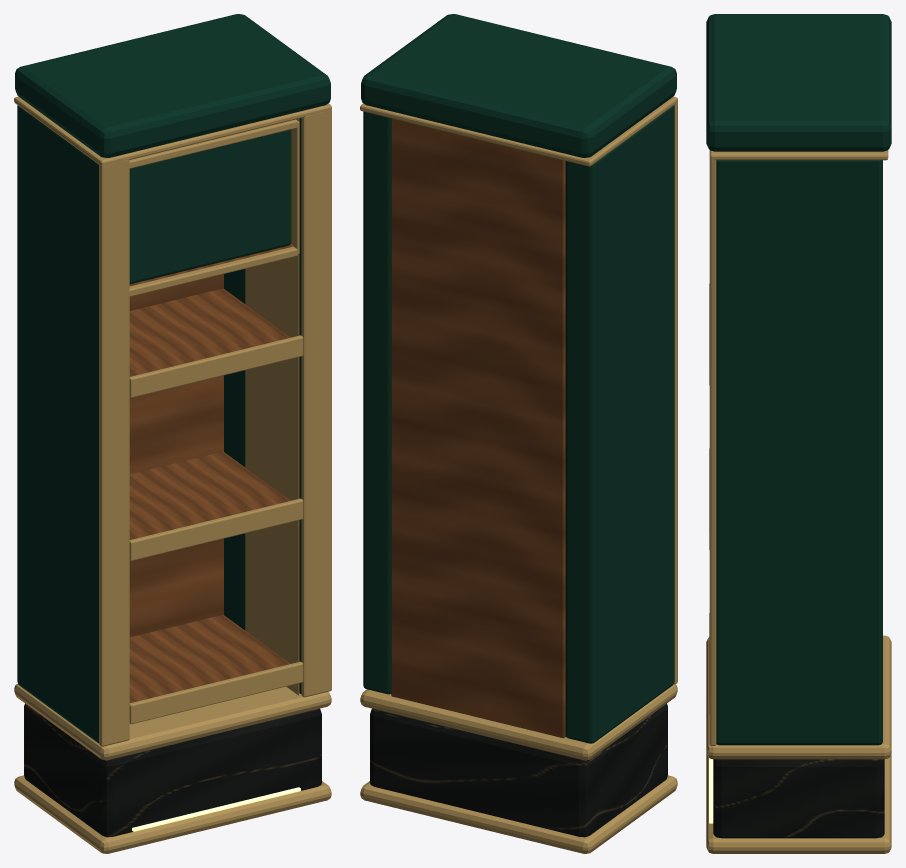
3 views of the same model, side by side, from view 1: azimuth 30°, elevation 25°; view 2: azimuth 150°, elevation 25°; view 3: azimuth 270°, elevation 25° (orthographic).
Parts seen in each view (by area): view 1: cabinet_left_pillar, cabinet_crown, cabinet_stone_base, brand_header_panel, trim_left_front, trim_right_front, trim_right_inner, cabinet_back, shelf_2, shelf_3, shelf_1, trim_base_top (+10 smaller); view 2: cabinet_back, cabinet_left_pillar, cabinet_crown, cabinet_stone_base, cabinet_right_pillar, trim_base_plinth, trim_base_top, trim_crown_lip, trim_left_front; view 3: cabinet_right_pillar, cabinet_crown, cabinet_stone_base, trim_right_front, trim_base_top, trim_base_plinth, trim_crown_lip.
Part boxes in pixels (x1=…): cabinet_left_pillar: x1=17, y1=105, x2=98, y2=743; cabinet_crown: x1=15, y1=14, x2=330, y2=157; cabinet_stone_base: x1=24, y1=703, x2=321, y2=837; brand_header_panel: x1=129, y1=129, x2=291, y2=284; trim_left_front: x1=99, y1=159, x2=129, y2=746; trim_right_front: x1=301, y1=110, x2=331, y2=697; trim_right_inner: x1=245, y1=119, x2=299, y2=695; cabinet_back: x1=129, y1=274, x2=223, y2=636; shelf_2: x1=129, y1=451, x2=290, y2=539; shelf_3: x1=129, y1=288, x2=290, y2=376; shelf_1: x1=129, y1=614, x2=290, y2=702; trim_base_top: x1=14, y1=683, x2=331, y2=760; cabinet_back: x1=391, y1=118, x2=565, y2=738; cabinet_left_pillar: x1=565, y1=105, x2=674, y2=743; cabinet_crown: x1=361, y1=14, x2=676, y2=157; cabinet_stone_base: x1=370, y1=703, x2=667, y2=837; cabinet_right_pillar: x1=363, y1=111, x2=391, y2=694; trim_base_plinth: x1=360, y1=775, x2=677, y2=853; trim_base_top: x1=360, y1=684, x2=677, y2=760; trim_crown_lip: x1=360, y1=96, x2=677, y2=166; trim_left_front: x1=674, y1=102, x2=677, y2=684; cabinet_right_pillar: x1=716, y1=160, x2=882, y2=745; cabinet_crown: x1=706, y1=14, x2=891, y2=151; cabinet_stone_base: x1=713, y1=759, x2=884, y2=838; trim_right_front: x1=709, y1=158, x2=716, y2=745; trim_base_top: x1=706, y1=635, x2=891, y2=759; trim_base_plinth: x1=706, y1=753, x2=891, y2=853; trim_crown_lip: x1=709, y1=150, x2=888, y2=160.
Size of the model in its own units: 0.8 by 2.4 by 0.55.
Materials: 5 (2 with a texture image).
